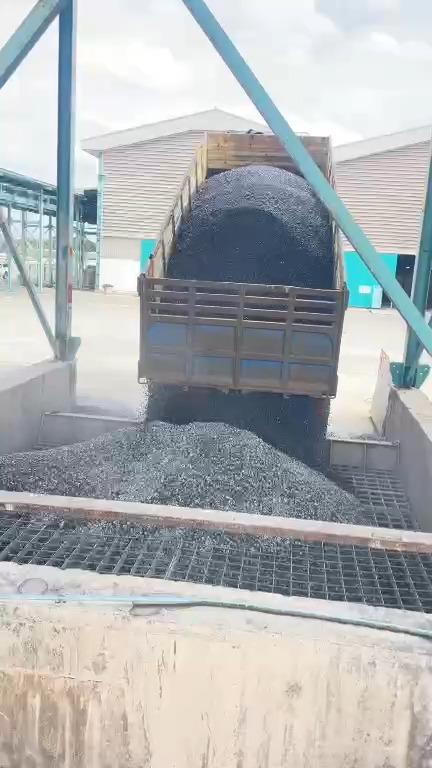gravel: (0, 422, 362, 521), (167, 166, 333, 287), (148, 383, 327, 465), (41, 516, 289, 552)
